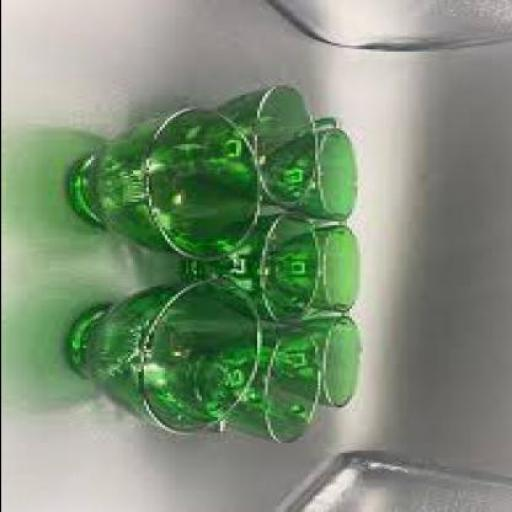glass: (66, 277, 266, 434), (69, 104, 263, 260), (190, 83, 320, 206), (185, 210, 320, 324), (204, 322, 322, 439), (271, 115, 359, 221), (278, 302, 361, 406), (288, 219, 364, 310)
